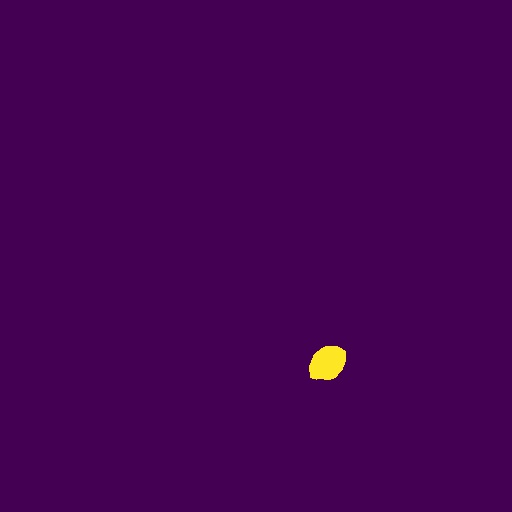Gliomia_tumour: (309, 346, 346, 380)
